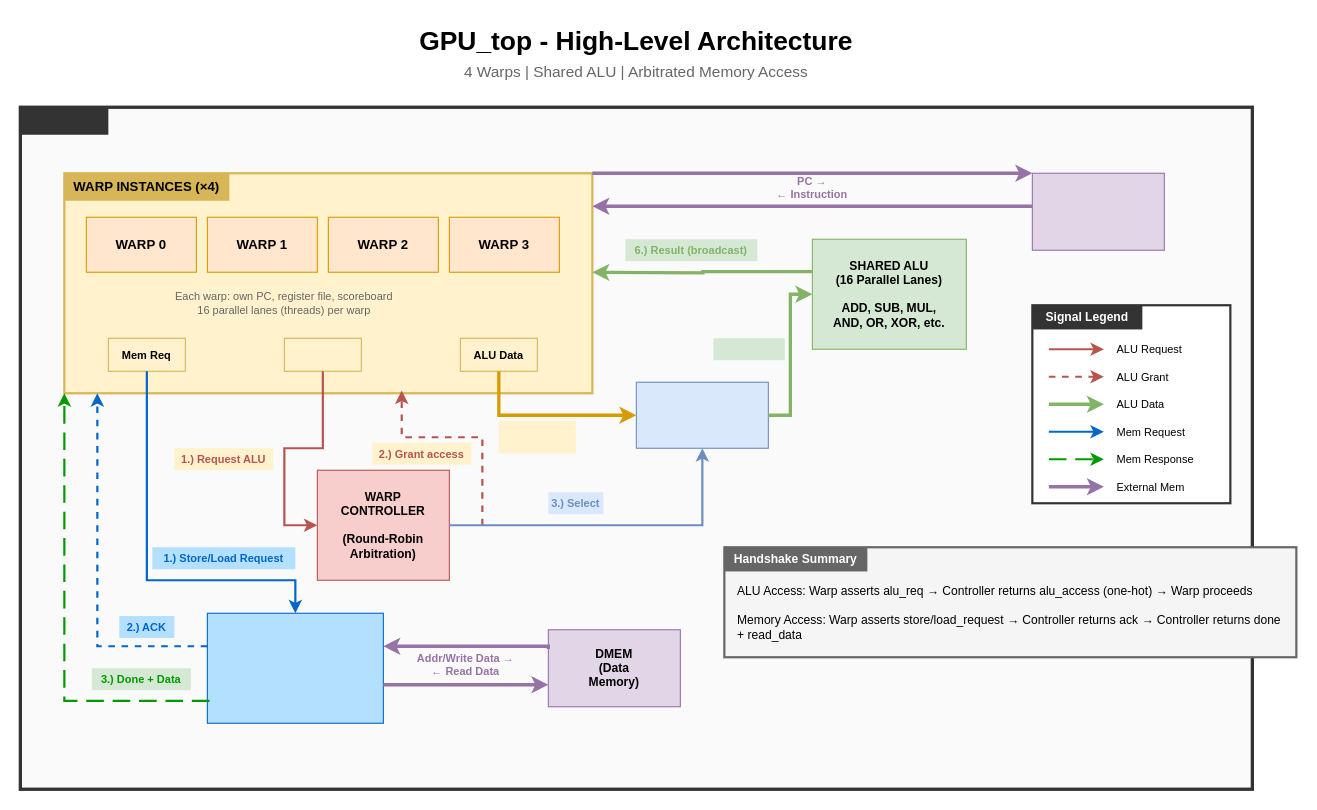
Image size: 1317x810. Some labels were removed from this diagram. Here are the shapes that lost their labels. From the top down, the centre of each, then its label:
At pixel 64 120: "GPU_top".
At pixel 1097 211: "IMEM, P er Warp (Instruction Memory)".
At pixel 322 354: "ALU Req".
At pixel 748 349: "5.) Selected".
At pixel 701 414: "MUX 4:1".
At pixel 536 436: "4.) Operands (all warps)".
At pixel 294 667: "MEMORY CONTROLLER Arbitrates access from all 4 warps".
